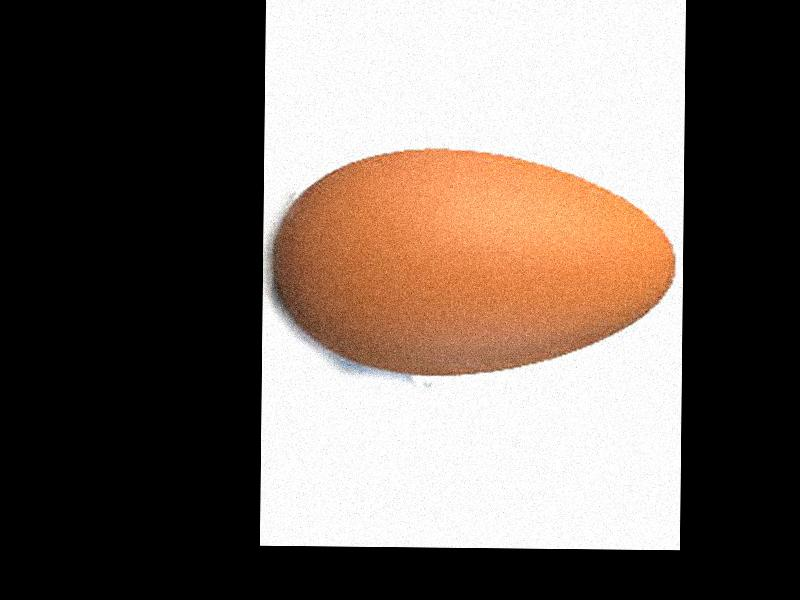Eggs: (271, 146, 673, 376)
